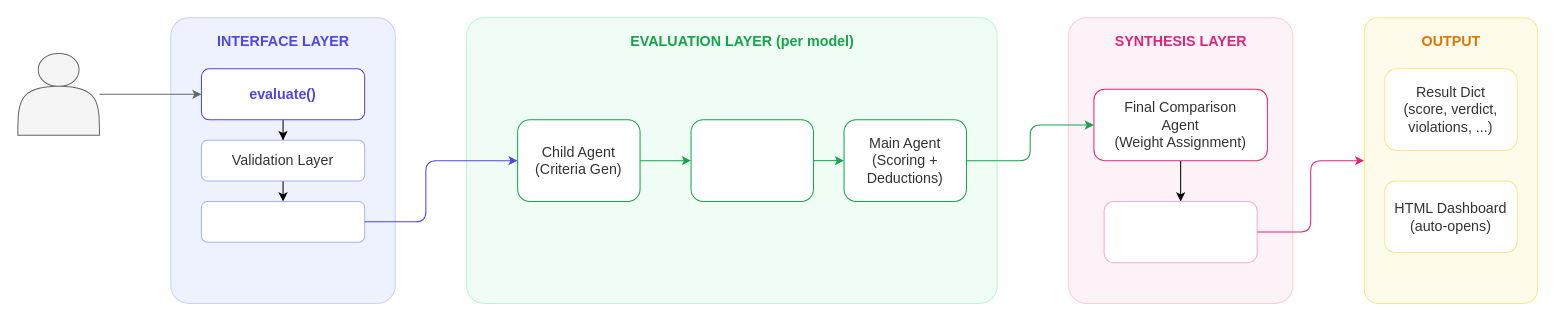
This 1556x321 diagram has some shape labels left out. Each missing label, with the centre of its shape:
Model & Evaluator Resolution: (x=282, y=221)
Tertiary Agent (14 Governance Evaluators): (x=751, y=160)
User: (x=58, y=94)
Weighted Average (Code-computed): (x=1180, y=231)
